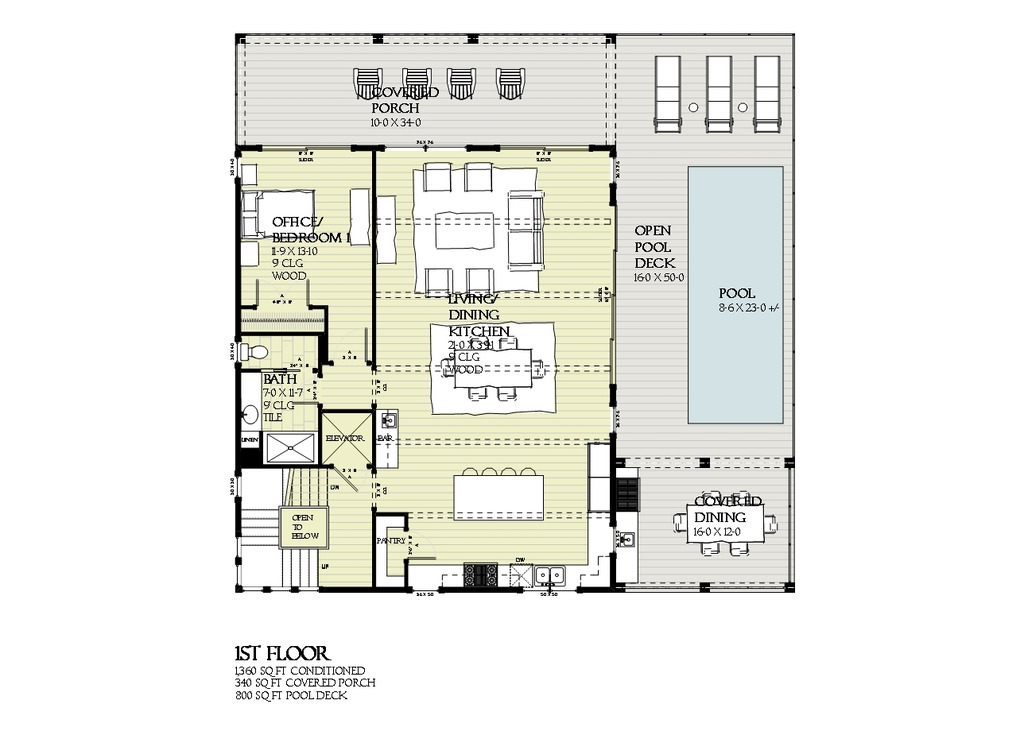bed: (241, 188, 317, 245)
dining_table: (671, 499, 779, 556)
kitchen_bar: (449, 463, 550, 527)
large_sink: (236, 341, 272, 363)
large_sofa: (504, 190, 549, 274)
small_sink: (238, 395, 265, 432)
small_sofa: (419, 162, 455, 199), (422, 265, 454, 300), (463, 161, 497, 192), (465, 265, 495, 298)
stairs: (240, 464, 322, 590)
twin_sink: (531, 563, 568, 586)
